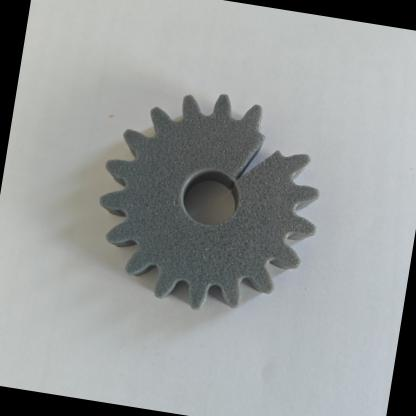defect: (196, 104, 312, 205)
gear: (75, 56, 355, 342)
